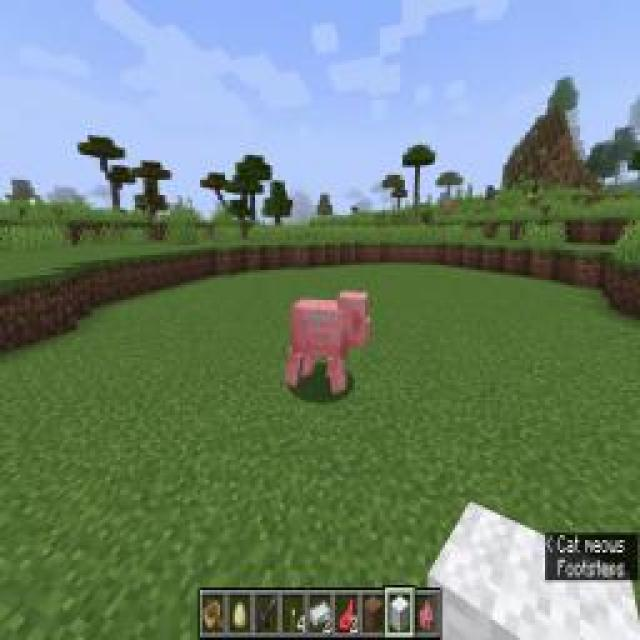Pig: (284, 285, 371, 397)
